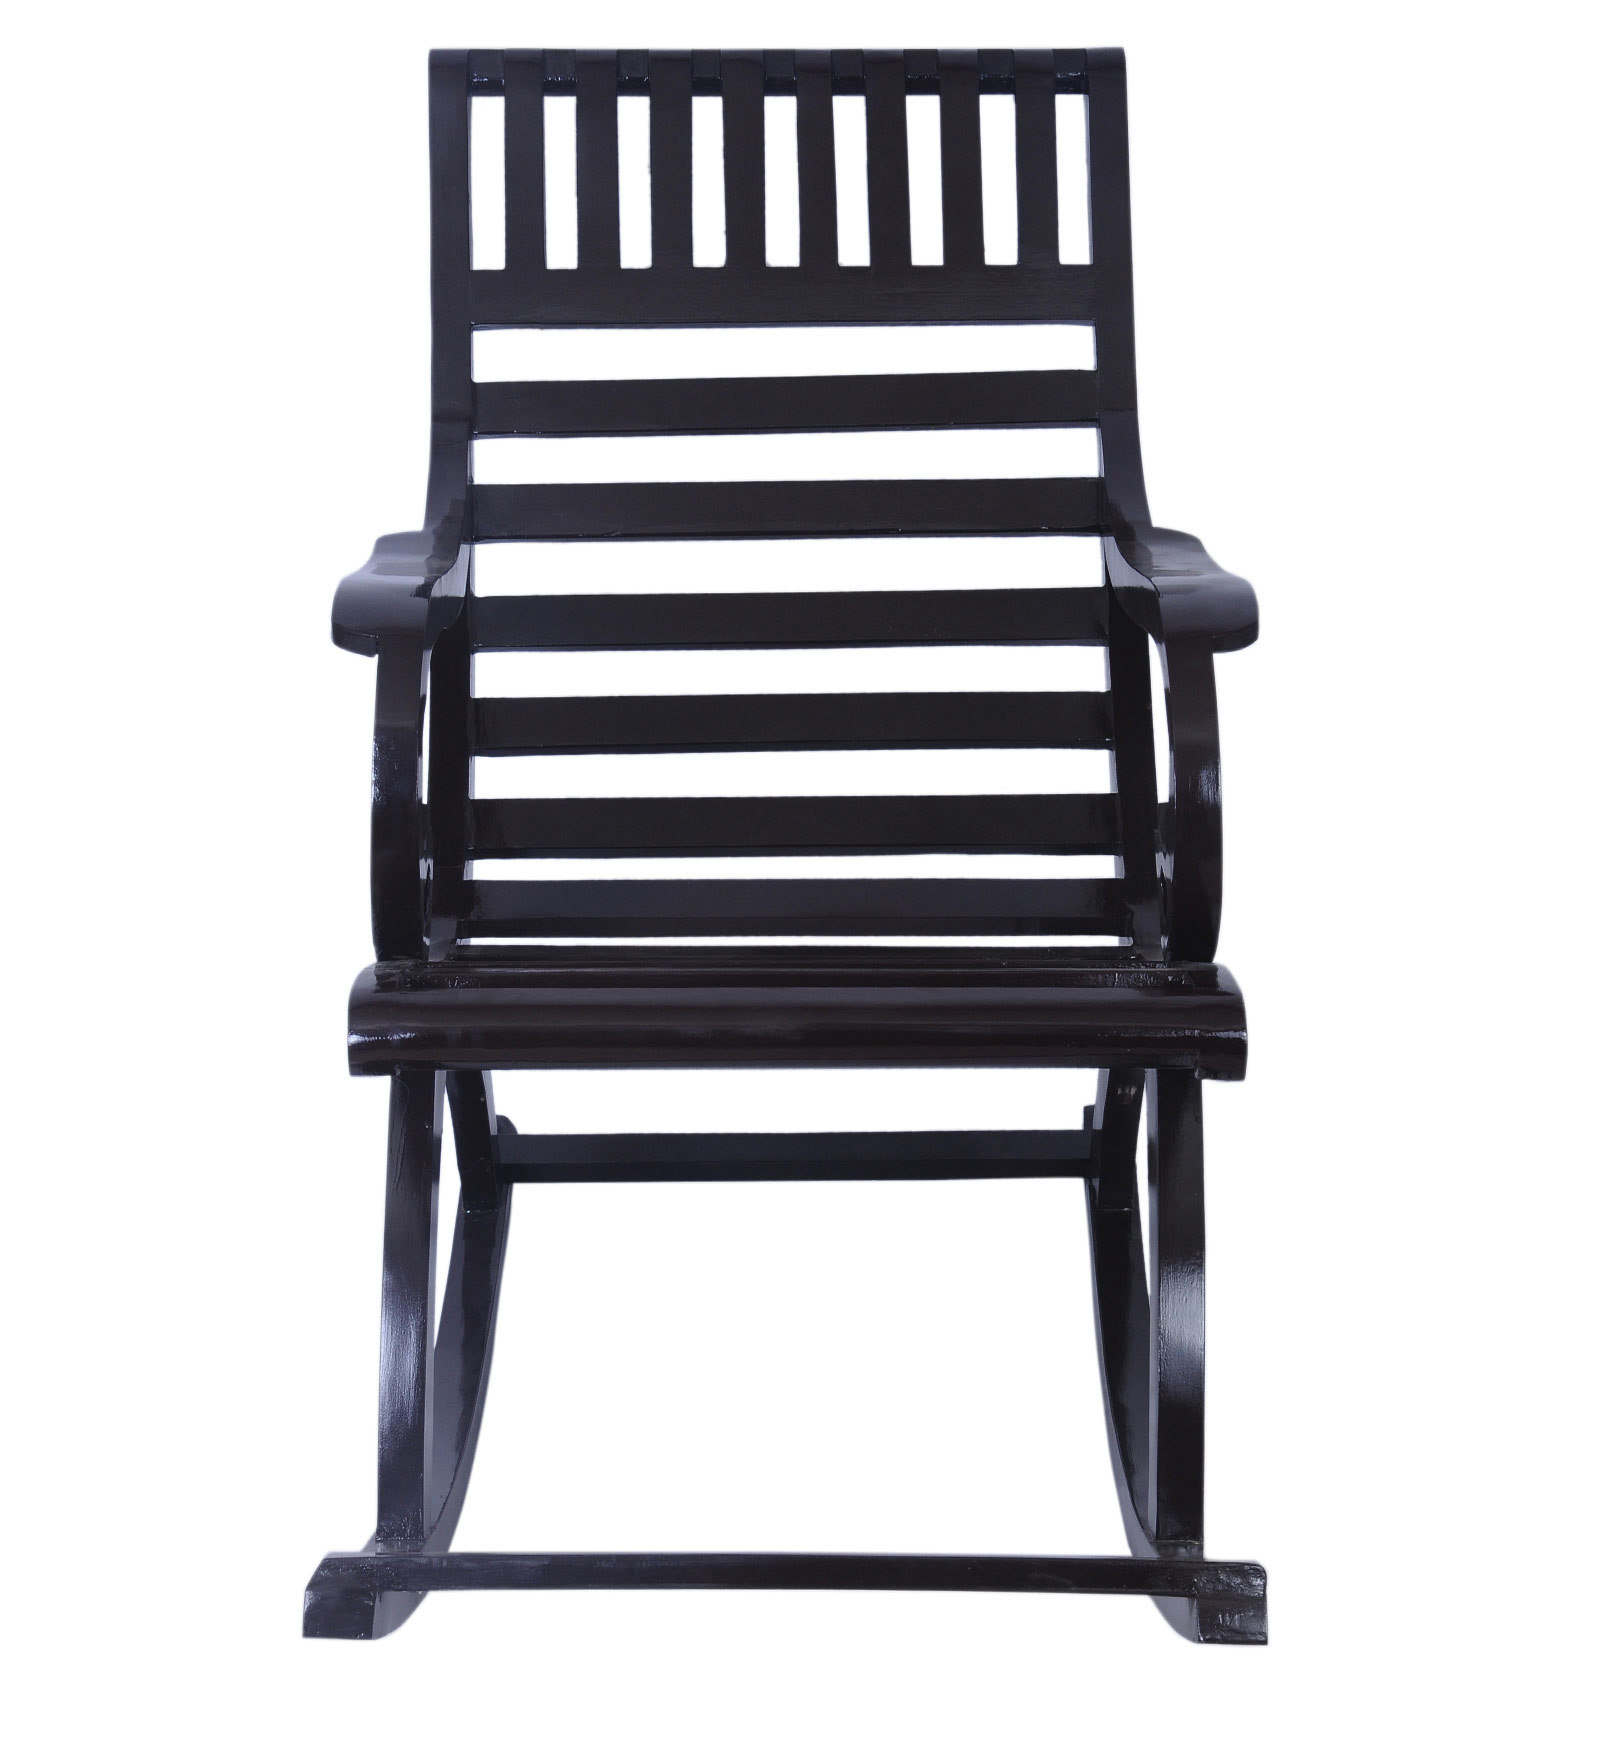Teak Wood Rocking Chair in Walnut Finish by Furniease: (270, 15, 1353, 1683)
